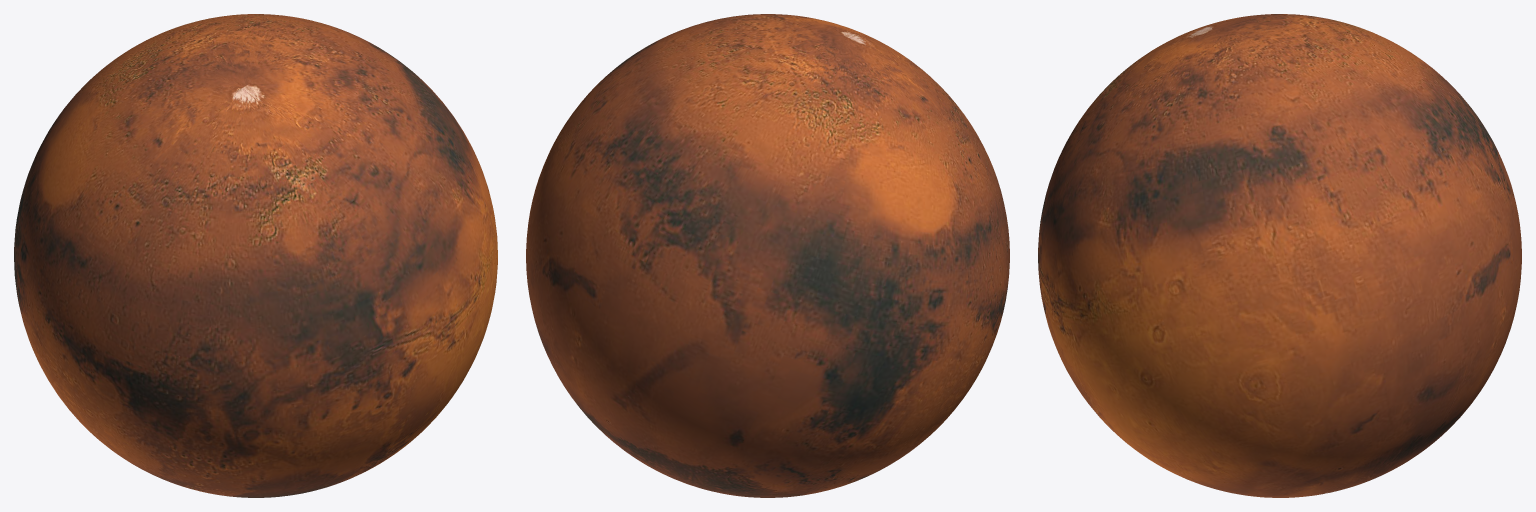
File: Aries.fbx
3 renders of one model, left to right at view 1: azimuth 30°, elevation 25°; view 2: azimuth 150°, elevation 25°; view 3: azimuth 270°, elevation 25°, orthographic.
Parts seen in each view (by area): view 1: mars; view 2: mars; view 3: mars.
Part boxes in pixels (<box>): mars: <box>14,14,497,497</box>; mars: <box>526,14,1009,497</box>; mars: <box>1038,14,1521,497</box>.
Size of the model in its own units: 365 by 365 by 365.
